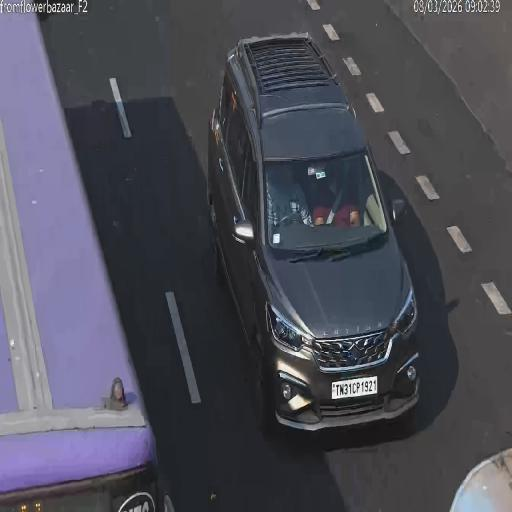person_with_seatbelt: (265, 178, 293, 228), (326, 184, 348, 226)
